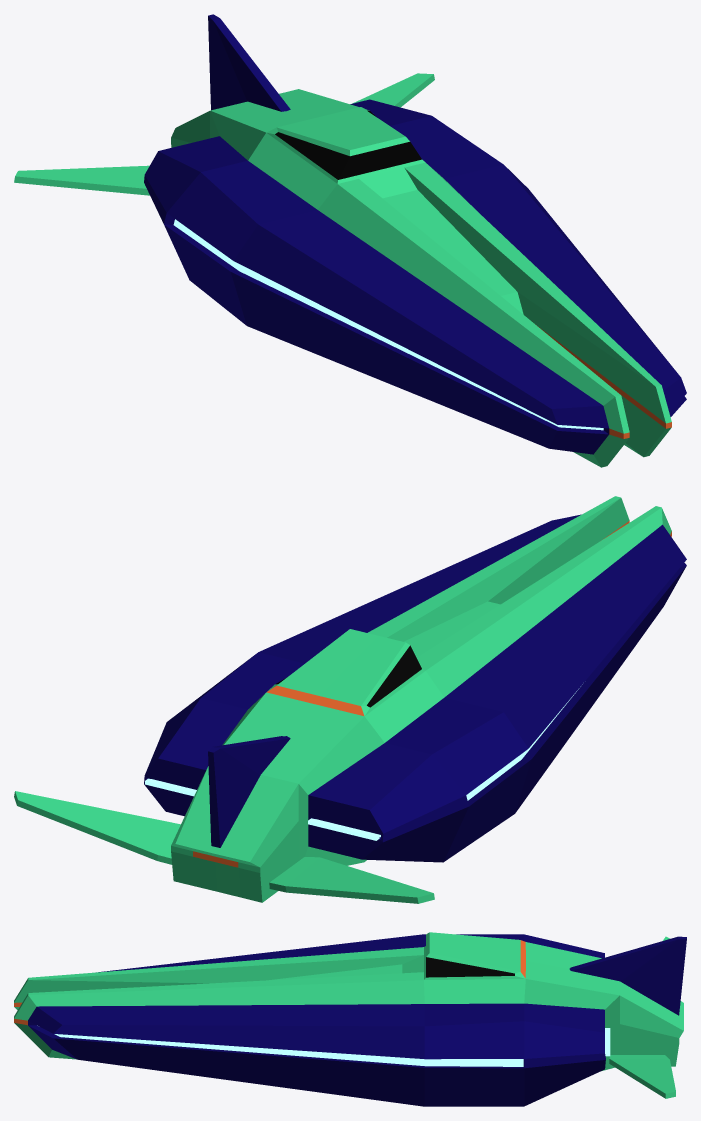
The model's file is raceship.gltf.
The picture shows the model from 3 angles, top to bottom: view 1: azimuth 30°, elevation 25°; view 2: azimuth 150°, elevation 25°; view 3: azimuth 270°, elevation 25°; orthographic projection. The views are drawn at different scales.
Visible parts, largest first — view 1: main, aileron, aile2, aile1; view 2: main, aile1, aileron, aile2; view 3: main, aileron, aile1.
Boxes of the visible parts, x1,y1,x2,y2 form: main: (144,89,686,467); aileron: (208,14,290,111); aile2: (14,165,149,195); aile1: (352,73,434,107); main: (144,496,686,902); aile1: (14,791,180,864); aileron: (208,736,290,847); aile2: (269,857,434,903); main: (14,932,683,1106); aileron: (569,936,686,1015); aile1: (609,1055,675,1098).
Size of the model in its own units: 0.5393 by 0.2141 by 0.9698.
